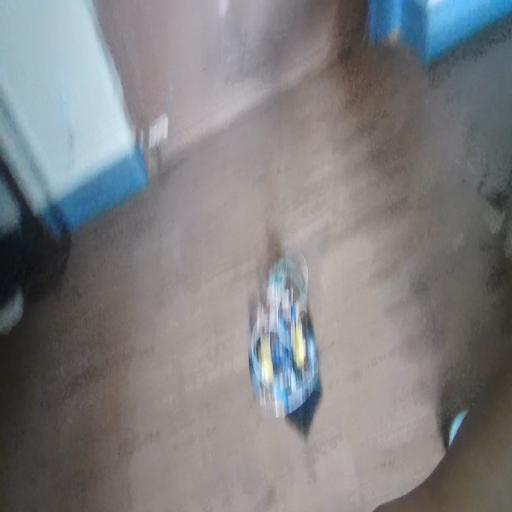car: (237, 231, 369, 449)
